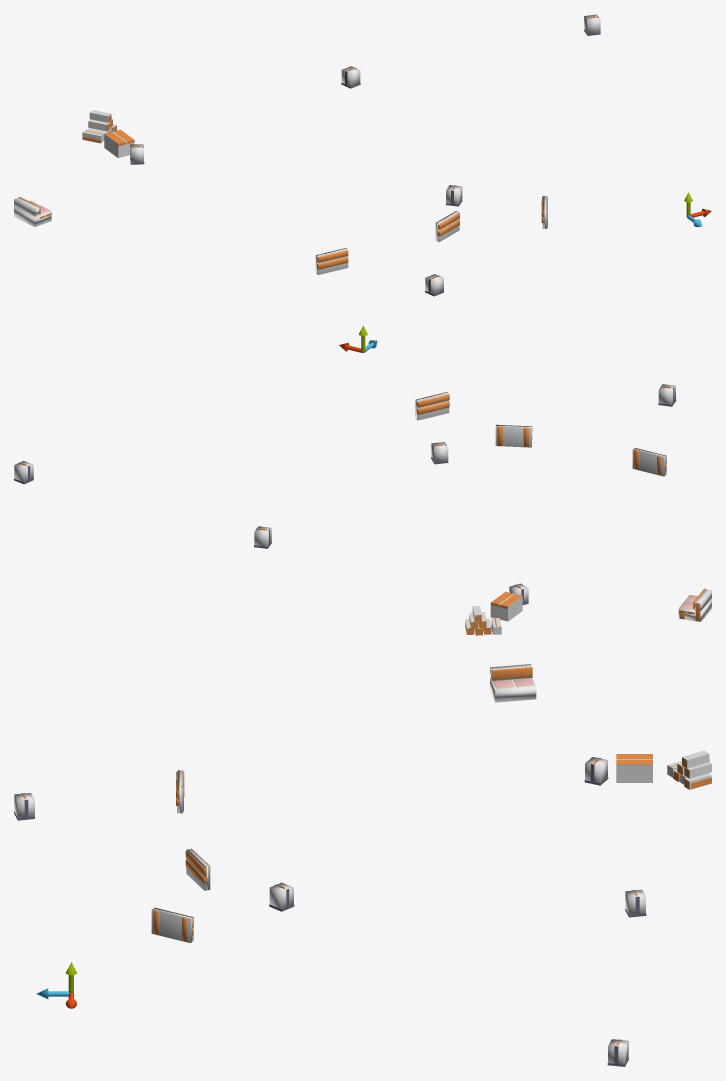
The model's file is sceneryDynamic.glb.
3 renders of one model, top to bottom at view 1: azimuth 30°, elevation 25°; view 2: azimuth 150°, elevation 25°; view 3: azimuth 270°, elevation 25°, orthographic. The views are drawn at different scales.
Visible parts, largest first — view 1: no part large enough to name; view 2: cube.003, cube.002, cube.017; view 3: cube.005, bench, cube, cube.017.
Part boxes in pixels (<box>): cube.003: <box>495,424,531,447</box>; cube.002: <box>632,448,666,476</box>; cube.017: <box>490,593,522,621</box>; cube.005: <box>151,907,193,943</box>; bench: <box>491,667,534,693</box>; cube: <box>490,677,536,702</box>; cube.017: <box>616,759,652,782</box>.
Bounding box in the file's own units: 44.12 × 2.21 × 33.07.
